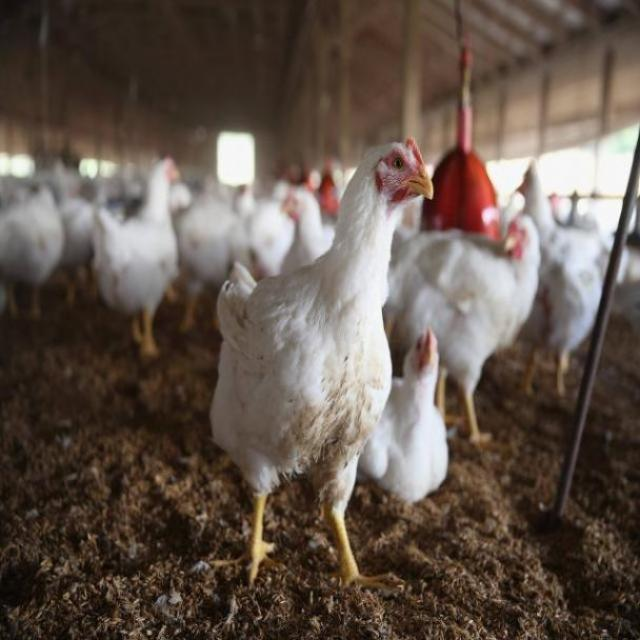Chicken: (214, 141, 433, 596), (368, 324, 453, 509), (496, 219, 540, 304)
